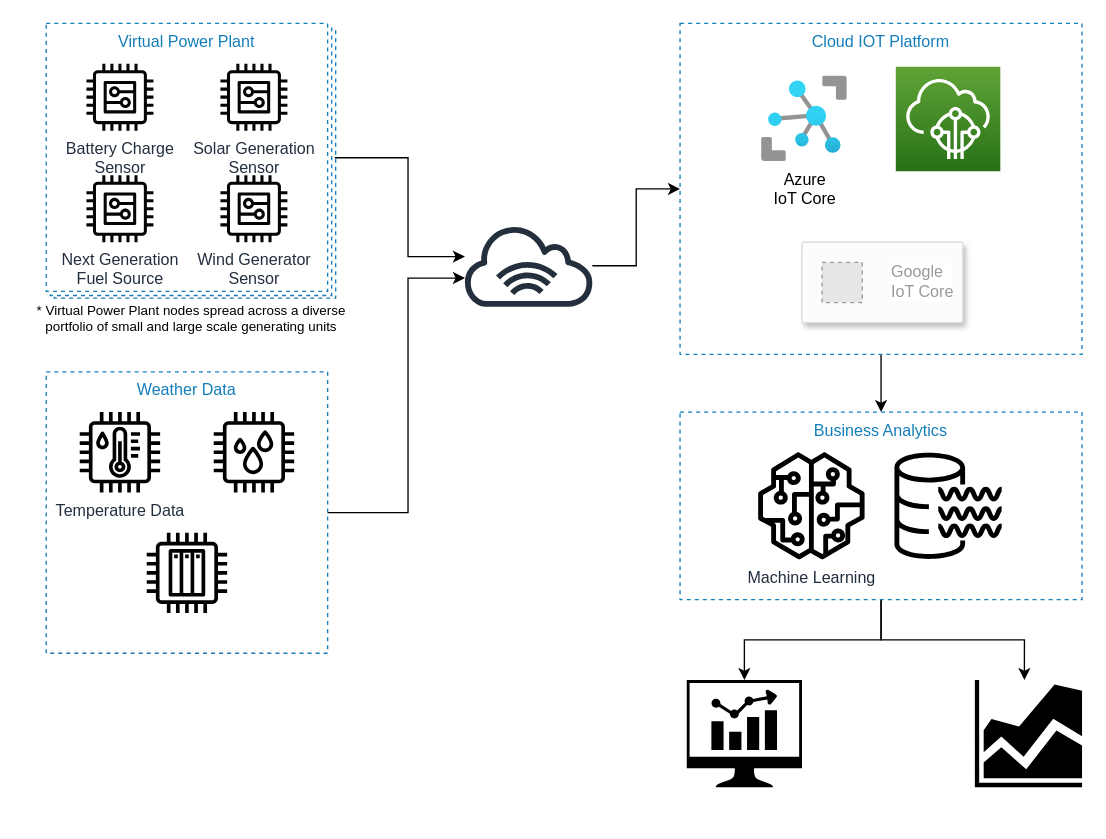
Some shapes in this 1106 by 839 pixel diagram are drawn without their labels. Grey dashed boxes stand in for pictures. Each missing label, with the centre of its shape:
"AWS IOT Core" belongs at (947,118).
"Dashboard" belongs at (743,733).
"Data Lake" belongs at (947,505).
"Forecasting" belongs at (1027,733).
"Rainfall Data" belongs at (253,451).
"Satelite Internet" belongs at (528,265).
"Sky Cameras" belongs at (186,572).
